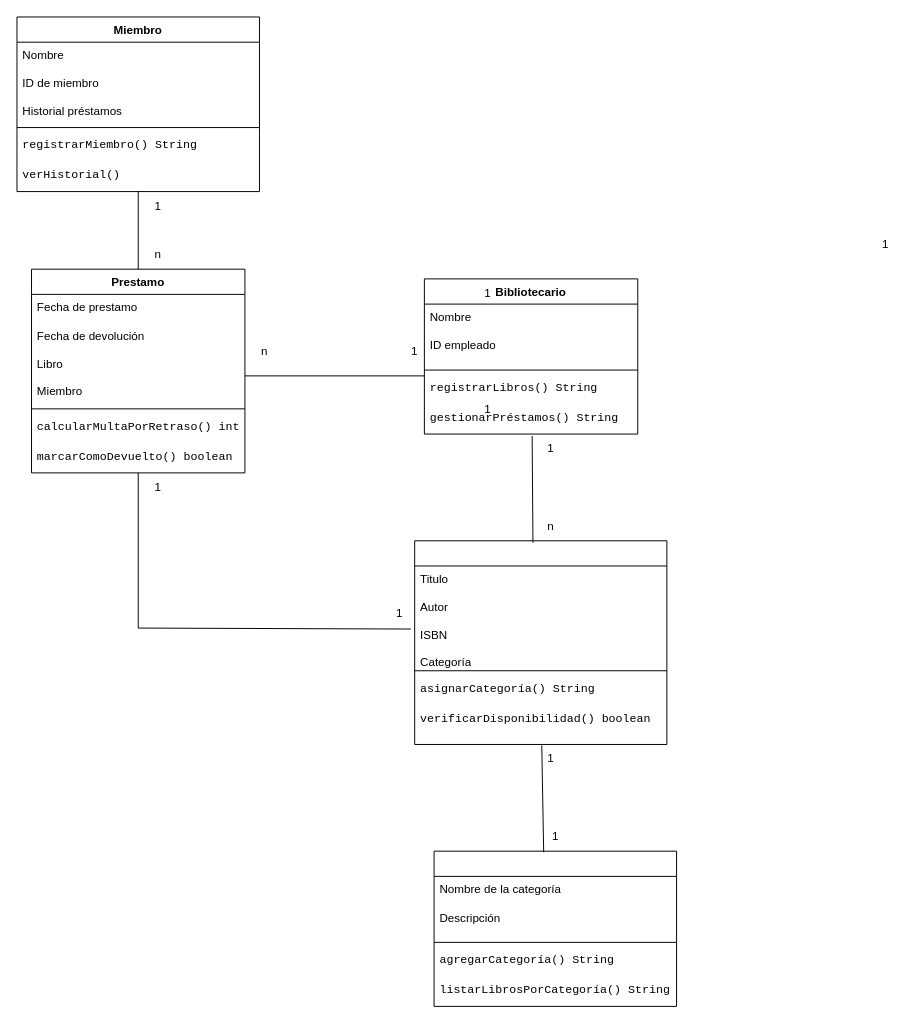
Image size: 917x1026. Some labels were removed from this diagram. The shapes that lost their labels are listed below. From the top down, each one's box as (x1, y1, x2, y2) in pixels, then its label:
(414, 540, 667, 744): Libro
(433, 850, 677, 1006): Categoria
